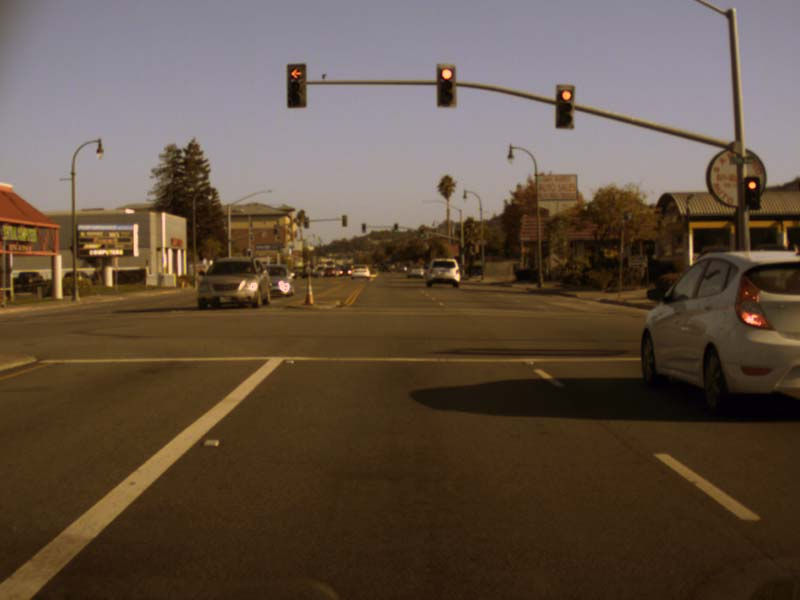Green: (360, 222, 366, 233), (393, 223, 397, 233), (419, 228, 423, 237)
Red: (285, 63, 307, 107), (554, 84, 575, 129), (437, 63, 455, 106), (743, 176, 759, 210)
